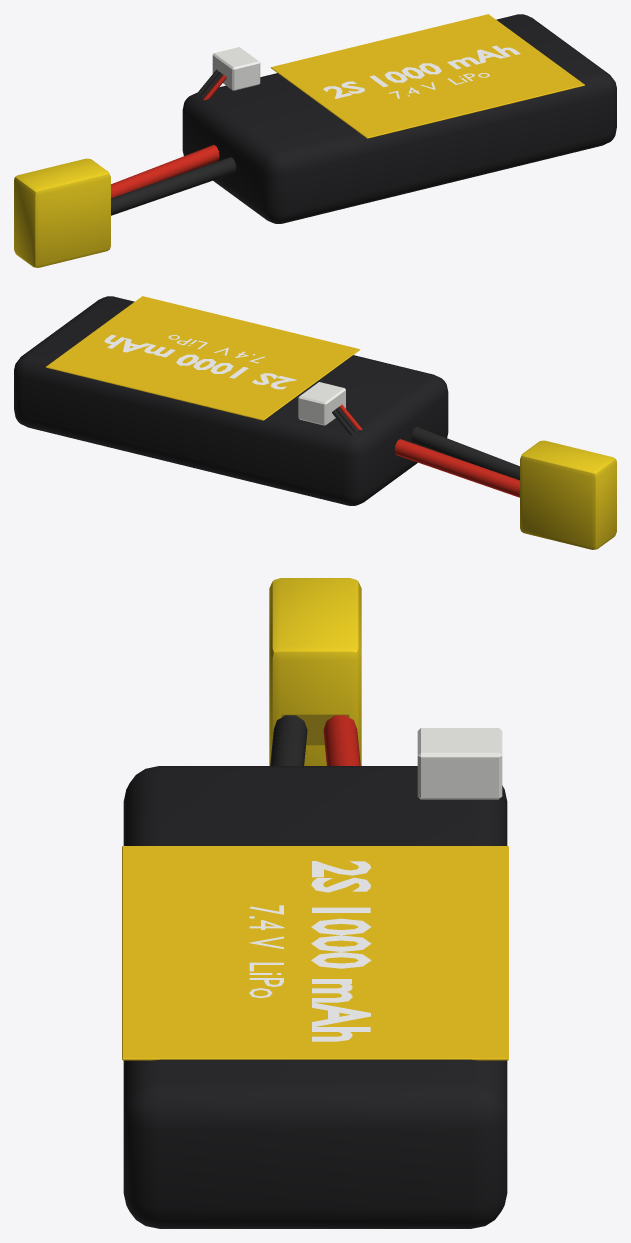
Rendered from bateria_b2s1000.glb.
3 views of the same model, one above another, from view 1: azimuth 30°, elevation 25°; view 2: azimuth 150°, elevation 25°; view 3: azimuth 270°, elevation 25° (orthographic). The views are drawn at different scales.
Visible parts, largest first — view 1: bateria_cuerpo, bateria_etiqueta, bateria_xt60, bateria_cables, bateria_balanceo, bateria_texto; view 2: bateria_cuerpo, bateria_etiqueta, bateria_xt60, bateria_cables, bateria_balanceo, bateria_texto; view 3: bateria_cuerpo, bateria_etiqueta, bateria_xt60, bateria_texto, bateria_balanceo, bateria_cables.
Part boxes in pixels (bbox=[...]): bateria_cuerpo: bbox=[182, 14, 616, 223]; bateria_etiqueta: bbox=[270, 14, 584, 138]; bateria_xt60: bbox=[14, 158, 110, 267]; bateria_cables: bbox=[111, 145, 236, 215]; bateria_balanceo: bbox=[196, 47, 260, 100]; bateria_texto: bbox=[323, 45, 520, 98]; bateria_cuerpo: bbox=[14, 296, 448, 505]; bateria_etiqueta: bbox=[46, 296, 360, 420]; bateria_xt60: bbox=[520, 440, 616, 549]; bateria_cables: bbox=[394, 427, 519, 497]; bateria_balanceo: bbox=[298, 382, 362, 435]; bateria_texto: bbox=[104, 334, 296, 389]; bateria_cuerpo: bbox=[123, 766, 507, 1228]; bateria_etiqueta: bbox=[122, 846, 508, 1060]; bateria_xt60: bbox=[269, 578, 361, 765]; bateria_texto: bbox=[249, 861, 371, 1041]; bateria_balanceo: bbox=[417, 728, 502, 799]; bateria_cables: bbox=[270, 715, 360, 765].
Bounding box in the file's own units: 0.113 × 0.0231 × 0.0343.
